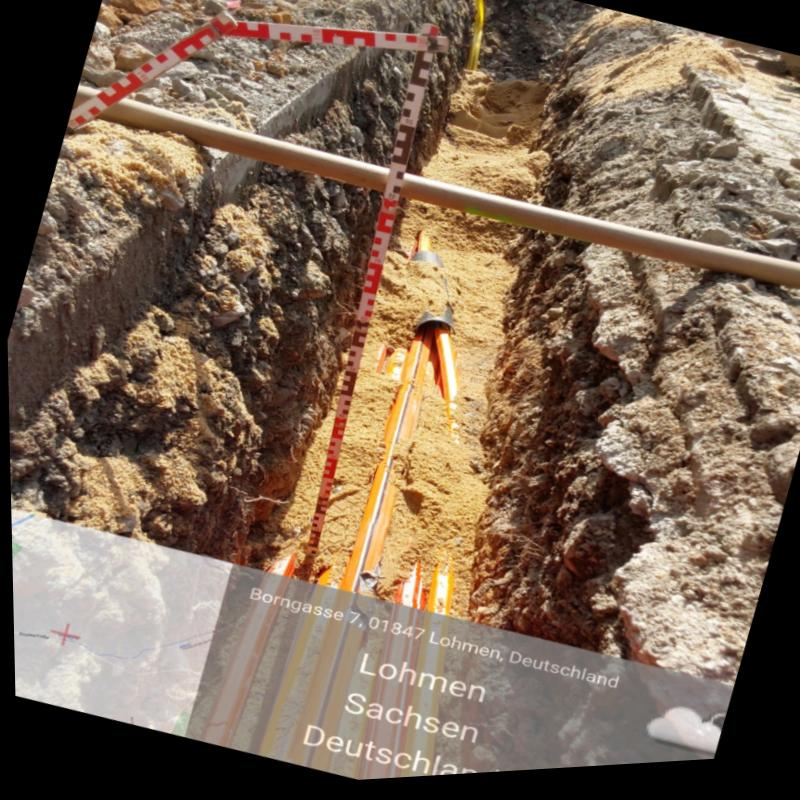Orang-Speednetrohrchen: (340, 337, 457, 593), (395, 568, 451, 622)
